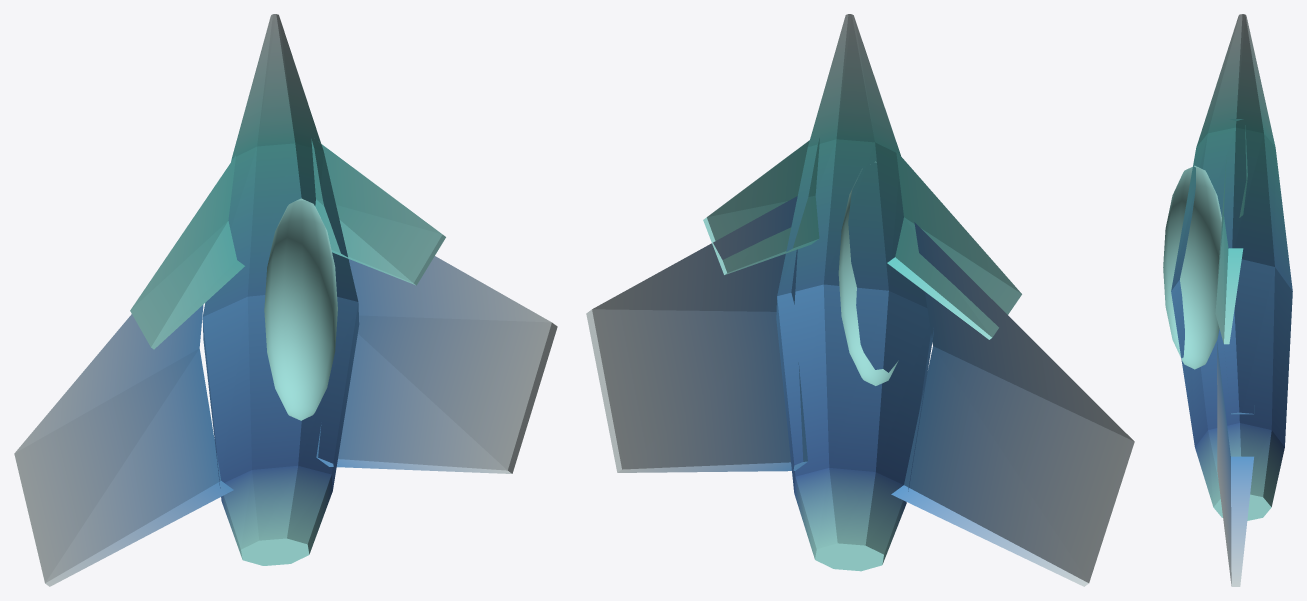
Rendered from ship_crystal_fighter.glb.
3 views of the same model, side by side, from view 1: azimuth 30°, elevation 25°; view 2: azimuth 150°, elevation 25°; view 3: azimuth 270°, elevation 25° (orthographic). The views are drawn at different scales.
Visible parts, largest first — view 1: ShipRoot; view 2: ShipRoot; view 3: ShipRoot.
Part boxes in pixels (box(x1,y1,x2,y2)): ShipRoot: box(14, 14, 557, 586); ShipRoot: box(586, 14, 1134, 586); ShipRoot: box(1163, 14, 1292, 586).
Bounding box in the file's own units: 4.3 × 4.1 × 0.98.
